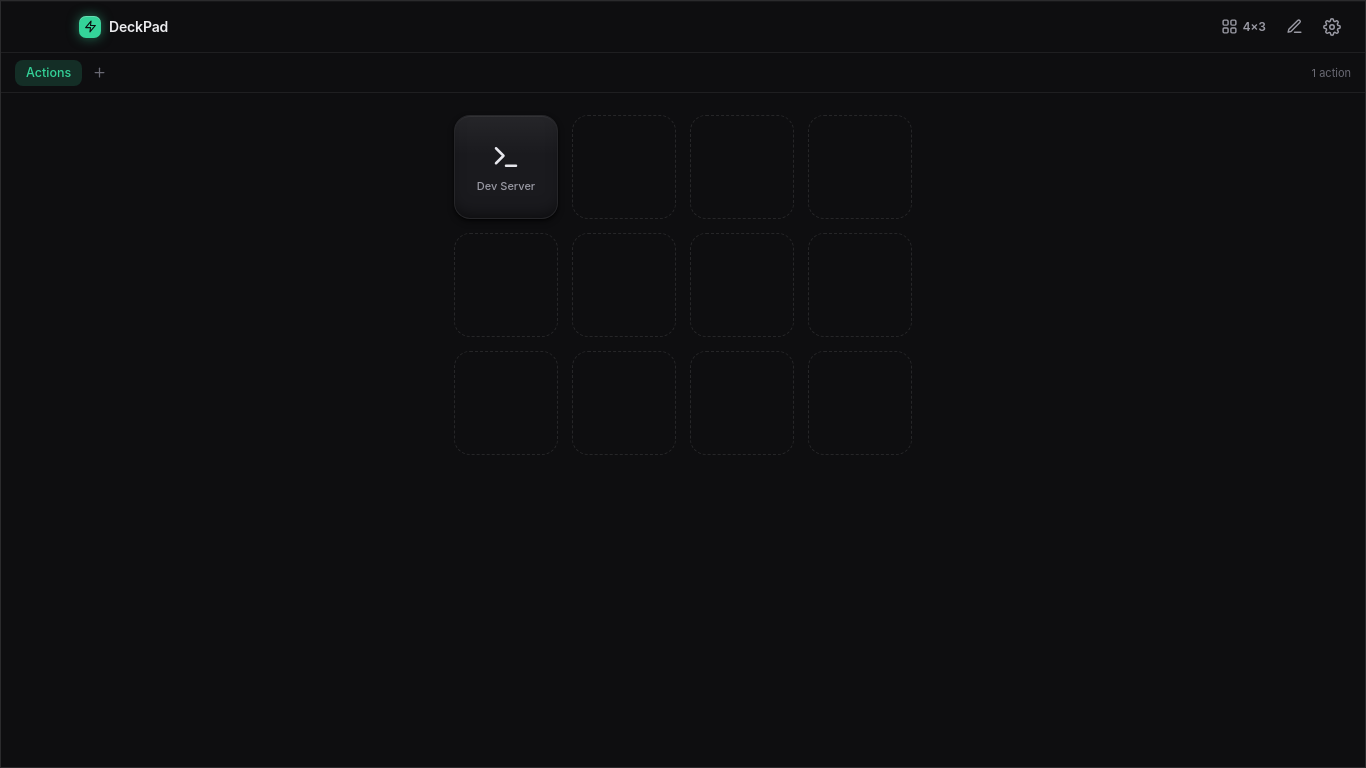
Scenario: App shell › right-click on a filled key opens the context menu with Edit/Duplicate/Delete
Right-click the button "Dev Server" at (506,167), box [454, 115, 558, 219]
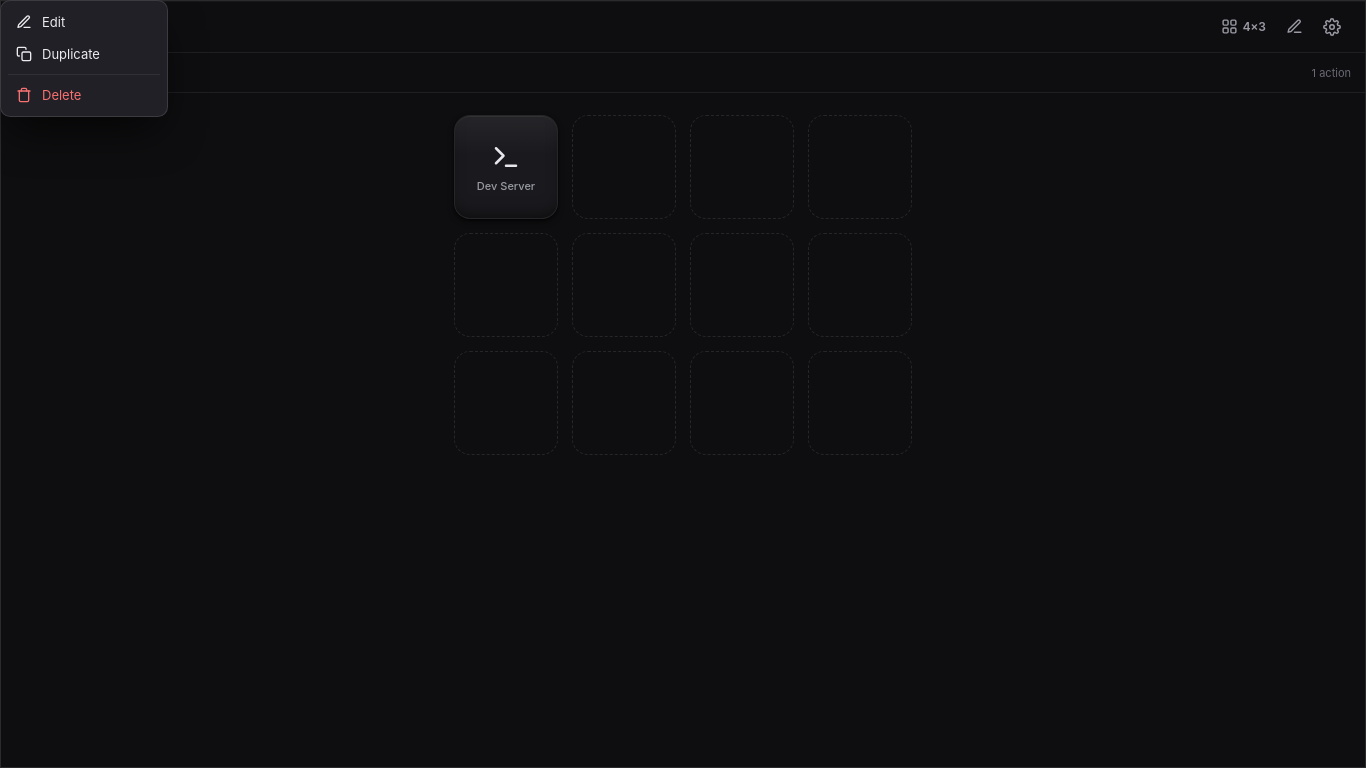
Expected: the button "Edit" is shown, [6, 6, 162, 38]
Expected: the button "Duplicate" is shown, [6, 38, 162, 70]
Expected: the button "Delete" is shown, [6, 79, 162, 111]
